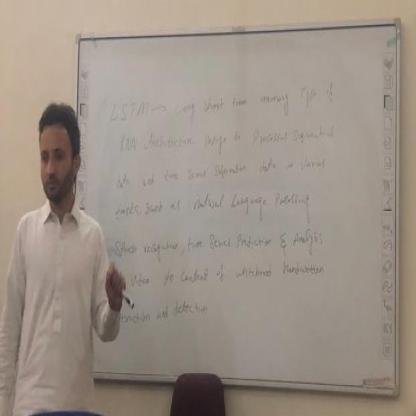Handwritten text: (105, 68, 342, 123), (111, 113, 343, 158), (109, 145, 334, 190), (125, 259, 327, 297), (110, 186, 318, 222), (104, 224, 331, 255), (99, 297, 214, 330)
Lecturer: (1, 94, 120, 405)
Whiteboard: (56, 9, 406, 406)
